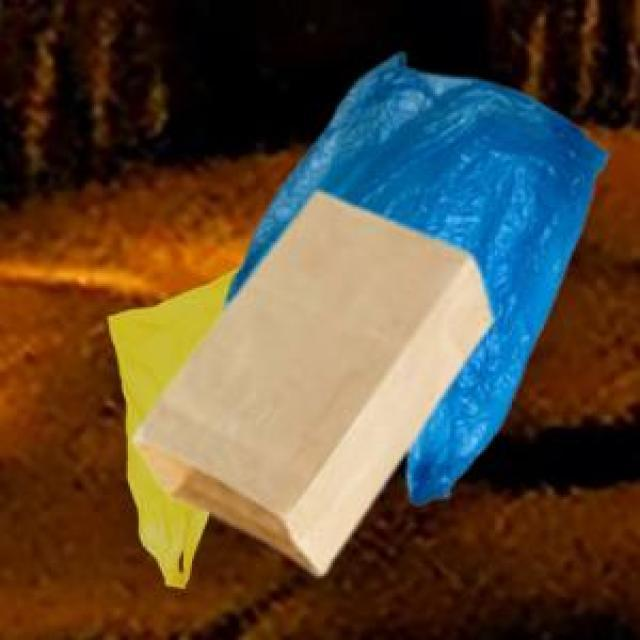paper: (130, 188, 489, 570)
